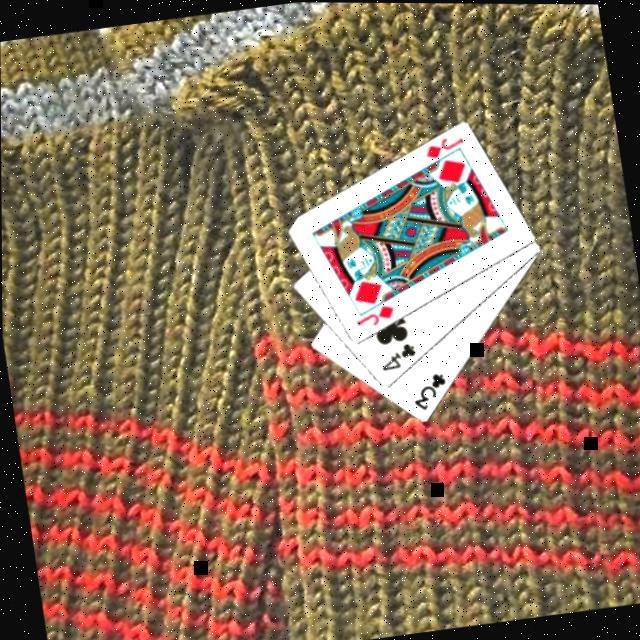3C: (405, 370, 450, 417)
4C: (372, 340, 418, 376)
JD: (418, 133, 466, 165), (348, 303, 396, 333)
